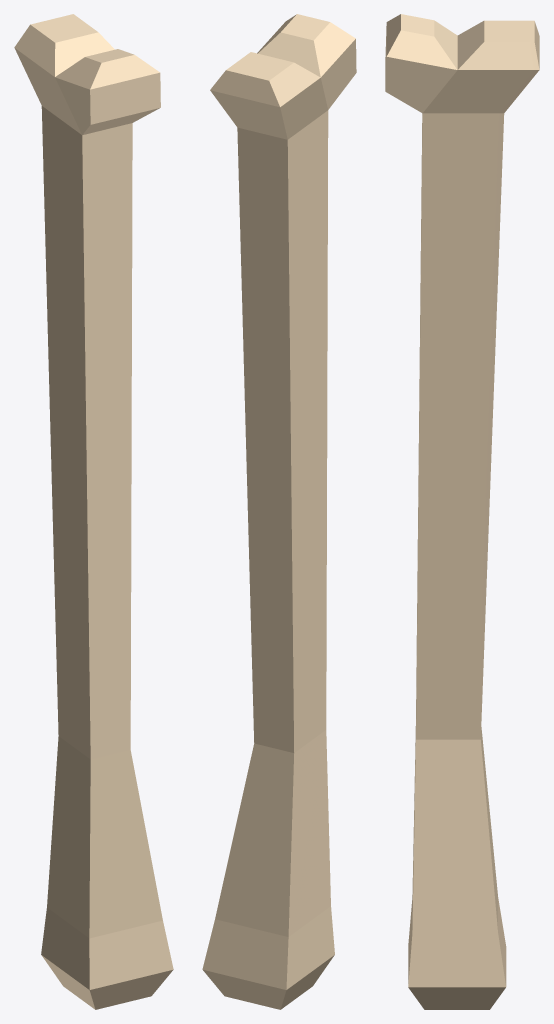
The model's file is Ulna.fbx.
The picture shows the model from 3 angles, left to right: view 1: azimuth 30°, elevation 25°; view 2: azimuth 150°, elevation 25°; view 3: azimuth 270°, elevation 25°; orthographic projection.
Visible parts, largest first — view 1: Ulna; view 2: Ulna; view 3: Ulna.
Part boxes in pixels (x1,y1,x2,y2): Ulna: (14, 14, 173, 1009); Ulna: (202, 14, 356, 1009); Ulna: (385, 14, 539, 1009).
Bounding box in the file's own units: 75.07 × 728 × 105.
